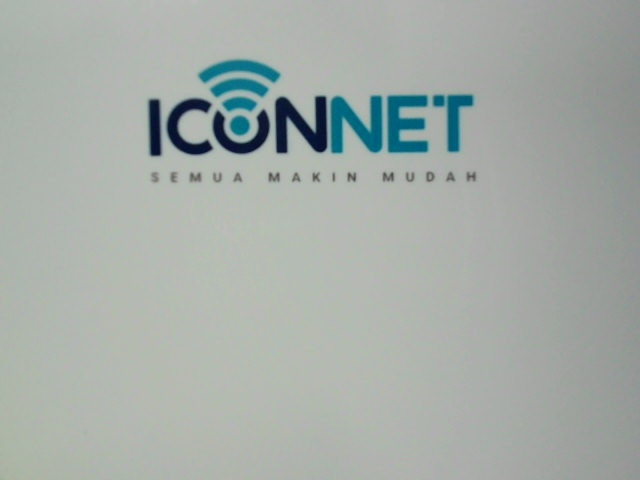BM_ICONNET: (109, 44, 494, 201)
